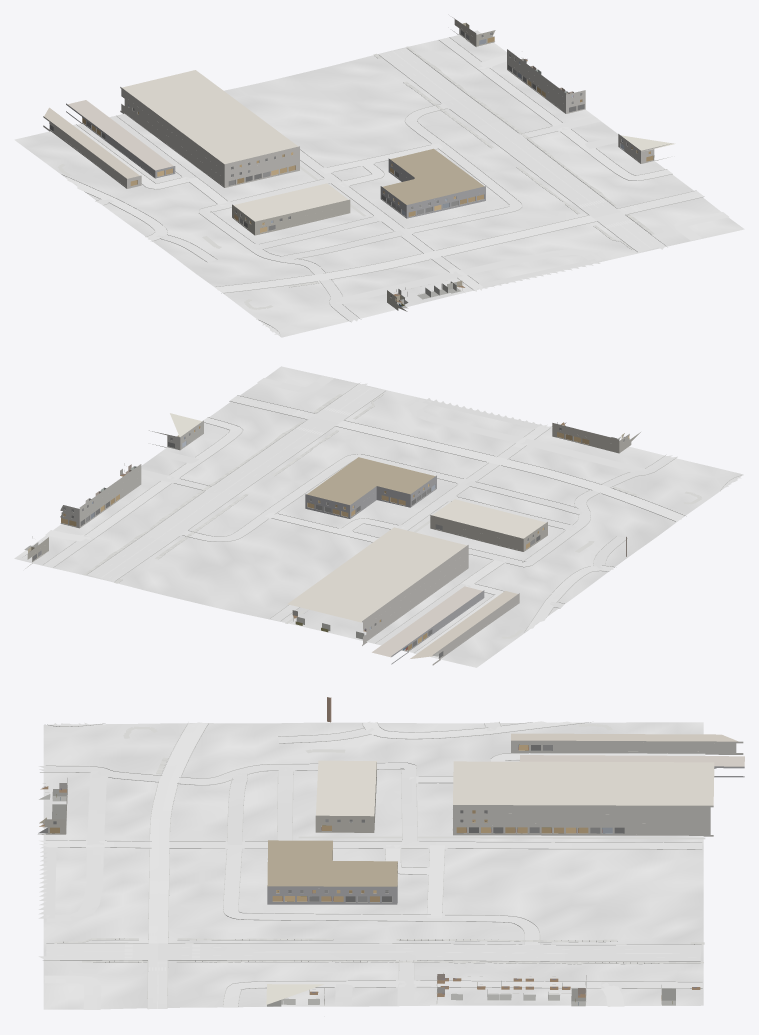
3 views of the same model, one above another, from view 1: azimuth 30°, elevation 25°; view 2: azimuth 150°, elevation 25°; view 3: azimuth 270°, elevation 25° (orthographic). The views are drawn at different scales.
Parts seen in each view (by area): view 1: ground, concrete, roof_flat, wall_com, asphalt, curb, walk, glass_lit, glass, room, mark_w, mark_y (+1 smaller); view 2: ground, concrete, roof_flat, asphalt, wall_com, curb, walk, glass_lit, glass, mark_w, room, mark_y; view 3: ground, concrete, roof_flat, asphalt, wall_com, curb, walk, room, glass_lit, mark_w, mark_y, glass (+1 smaller).
Boxes of the visible parts, x1,y1,x2,y2 form: ground: (14, 30, 744, 337); concrete: (67, 37, 728, 334); roof_flat: (44, 70, 675, 221); wall_com: (43, 17, 671, 311); asphalt: (216, 48, 703, 292); curb: (62, 37, 704, 336); walk: (57, 46, 654, 309); glass_lit: (82, 37, 653, 300); glass: (49, 30, 627, 297); room: (128, 23, 650, 308); mark_w: (382, 48, 664, 251); mark_y: (218, 51, 700, 290); ground: (14, 366, 743, 667); concrete: (43, 376, 741, 653); roof_flat: (170, 413, 545, 658); asphalt: (87, 383, 682, 581); wall_com: (25, 420, 640, 665); curb: (43, 383, 741, 652); walk: (83, 393, 702, 638); glass_lit: (61, 426, 629, 650); glass: (33, 427, 624, 658); mark_w: (88, 385, 383, 580); room: (24, 422, 624, 656); mark_y: (101, 387, 681, 577); ground: (43, 722, 703, 1009); concrete: (38, 721, 705, 1009); roof_flat: (266, 733, 744, 1004); asphalt: (38, 722, 700, 1009); wall_com: (38, 740, 744, 996); curb: (39, 721, 705, 1008); walk: (55, 724, 705, 964); room: (39, 744, 700, 1006); glass_lit: (50, 745, 661, 1000); mark_w: (49, 932, 700, 970); mark_y: (46, 722, 679, 1008); glass: (38, 745, 624, 901).
Bounding box in the file's own units: 263 × 15.37 × 277.
